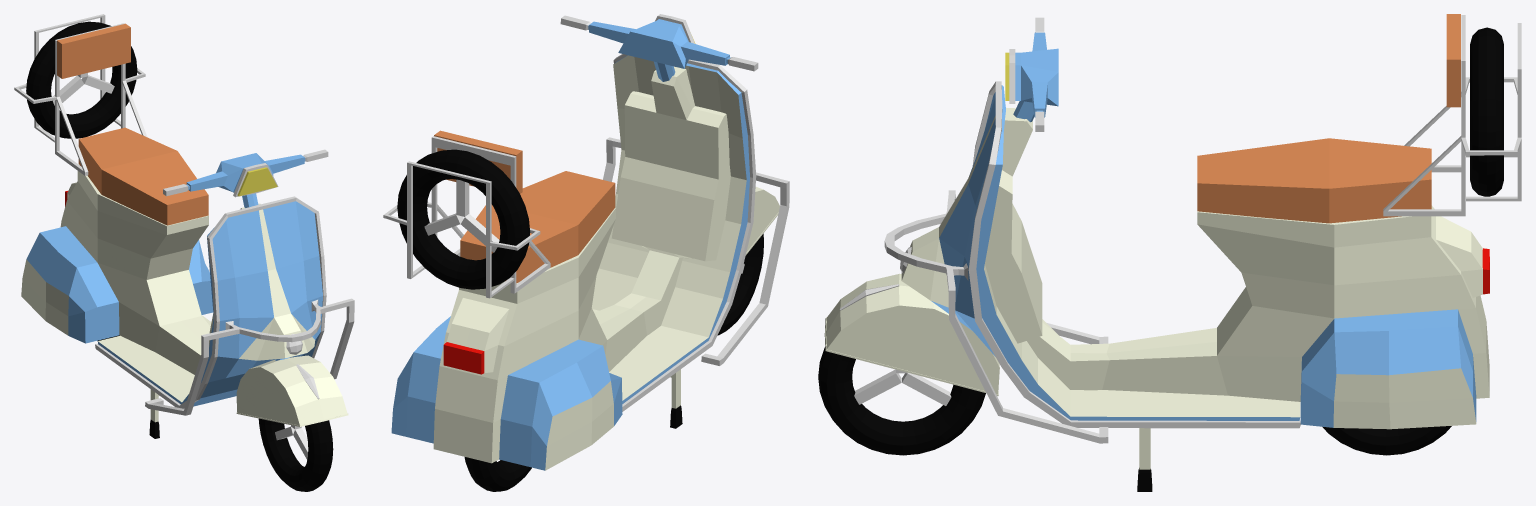
Rendered from bike.fbx.
The picture shows the model from 3 angles, left to right: view 1: azimuth 30°, elevation 25°; view 2: azimuth 150°, elevation 25°; view 3: azimuth 270°, elevation 25°; orthographic projection. The views are drawn at different scales.
Parts seen in each view (by area): view 1: MotoBody, MotoHead, WheelBackup, WheelFront; view 2: MotoBody, WheelBackup, MotoHead, WheelFront, WheelBack, MotoFoot; view 3: MotoBody, MotoHead, WheelFront, WheelBackup, WheelBack, MotoFoot.
Part boxes in pixels (left/top/right/bottom): MotoBody: left=14, top=14, right=354, bottom=415; MotoHead: left=163, top=149, right=348, bottom=426; WheelBackup: left=26, top=21, right=137, bottom=138; WheelFront: left=258, top=418, right=333, bottom=491; MotoBody: left=383, top=54, right=789, bottom=470; WheelBackup: left=397, top=149, right=530, bottom=289; MotoHead: left=560, top=14, right=779, bottom=255; WheelFront: left=717, top=233, right=763, bottom=335; WheelBack: left=464, top=457, right=531, bottom=491; MotoFoot: left=670, top=369, right=682, bottom=428; MotoBody: left=884, top=14, right=1521, bottom=443; MotoHead: left=824, top=17, right=1058, bottom=396; WheelFront: left=818, top=347, right=985, bottom=455; WheelBackup: left=1470, top=27, right=1503, bottom=196; WheelBack: left=1322, top=426, right=1451, bottom=455; MotoFoot: left=1137, top=428, right=1152, bottom=491.
Bounding box in the file's own units: 48.83 × 88.67 × 135.
